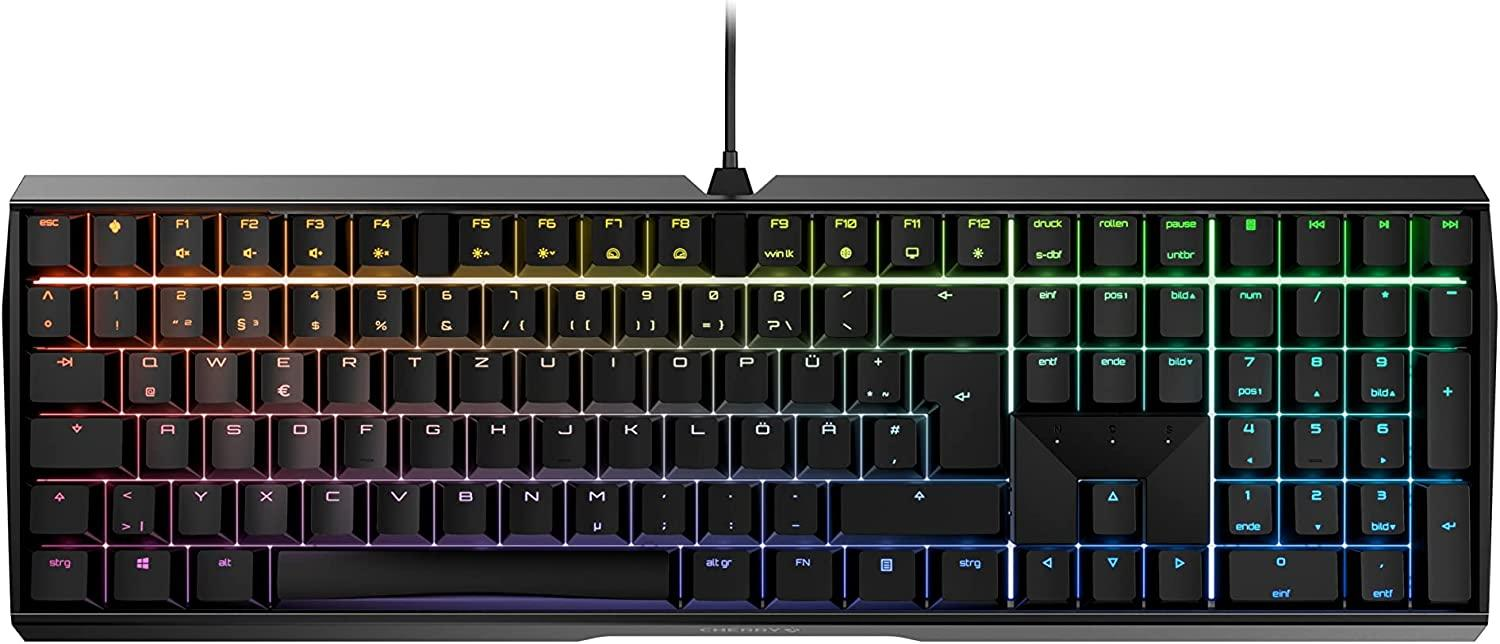0: (686, 278, 738, 335)
1: (90, 279, 138, 337)
2: (155, 279, 206, 337)
3: (221, 278, 271, 338)
4: (289, 279, 339, 337)
5: (354, 279, 409, 338)
6: (420, 278, 473, 337)
7: (485, 278, 539, 338)
8: (550, 278, 607, 340)
9: (618, 278, 674, 337)
a: (141, 411, 189, 467)
accent: (820, 279, 870, 337)
ae: (803, 412, 852, 467)
alt-left: (190, 543, 254, 601)
altgr-right: (686, 543, 752, 600)
b: (438, 476, 489, 532)
c: (307, 477, 355, 533)
caret: (24, 279, 71, 336)
comma: (638, 477, 687, 534)
d: (275, 411, 322, 466)
del: (888, 278, 1002, 336)
e: (257, 345, 305, 403)
enter: (913, 345, 1002, 470)
f: (342, 411, 386, 465)
g: (406, 411, 454, 465)
h: (472, 411, 520, 466)
hash: (869, 411, 916, 468)
i: (587, 344, 637, 399)
j: (538, 410, 586, 466)
k: (604, 411, 653, 466)
keyboard: (2, 172, 1499, 641)
l: (671, 411, 720, 466)
less: (104, 477, 155, 537)
m: (568, 477, 621, 536)
minus: (768, 478, 817, 532)
n: (504, 477, 555, 532)
o: (654, 345, 703, 401)
oe: (737, 411, 786, 467)
p: (721, 345, 769, 401)
plus: (852, 344, 902, 403)
point: (705, 478, 753, 532)
q: (122, 345, 173, 403)
r: (323, 345, 372, 401)
s: (208, 411, 255, 467)
shift-left: (27, 478, 88, 532)
shift-lock: (27, 411, 125, 467)
shift-right: (836, 477, 1001, 534)
space: (271, 544, 675, 607)
ss: (749, 278, 806, 339)
strg-left: (27, 543, 88, 600)
strg-right: (935, 543, 1003, 602)
t: (389, 345, 438, 401)
tab: (27, 345, 105, 400)
u: (521, 345, 571, 402)
ue: (786, 344, 836, 402)
v: (374, 477, 421, 532)
w: (190, 345, 239, 402)
x: (241, 477, 289, 533)
y: (175, 477, 223, 533)
z: (455, 346, 504, 401)
